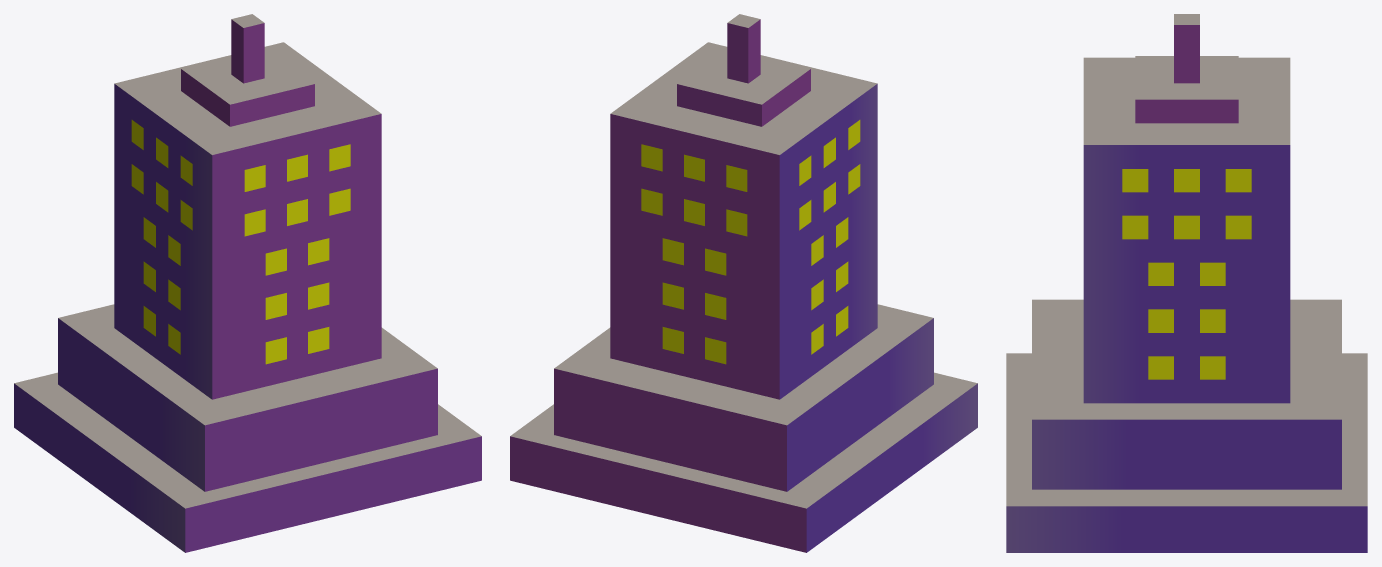
File: HQ.OrangeStar.BlackHole.glb
The picture shows the model from 3 angles, left to right: view 1: azimuth 30°, elevation 25°; view 2: azimuth 150°, elevation 25°; view 3: azimuth 270°, elevation 25°; orthographic projection. The views are drawn at different scales.
Parts seen in each view (by area): view 1: HQ.OrangeStar.BlackHole; view 2: HQ.OrangeStar.BlackHole; view 3: HQ.OrangeStar.BlackHole.
Boxes of the visible parts, x1,y1,x2,y2 form: HQ.OrangeStar.BlackHole: [14, 14, 481, 552]; HQ.OrangeStar.BlackHole: [510, 14, 977, 552]; HQ.OrangeStar.BlackHole: [1006, 14, 1367, 552].
Size of the model in its own units: 2.8 by 3.91 by 2.8.
2 materials, 1 textured.
